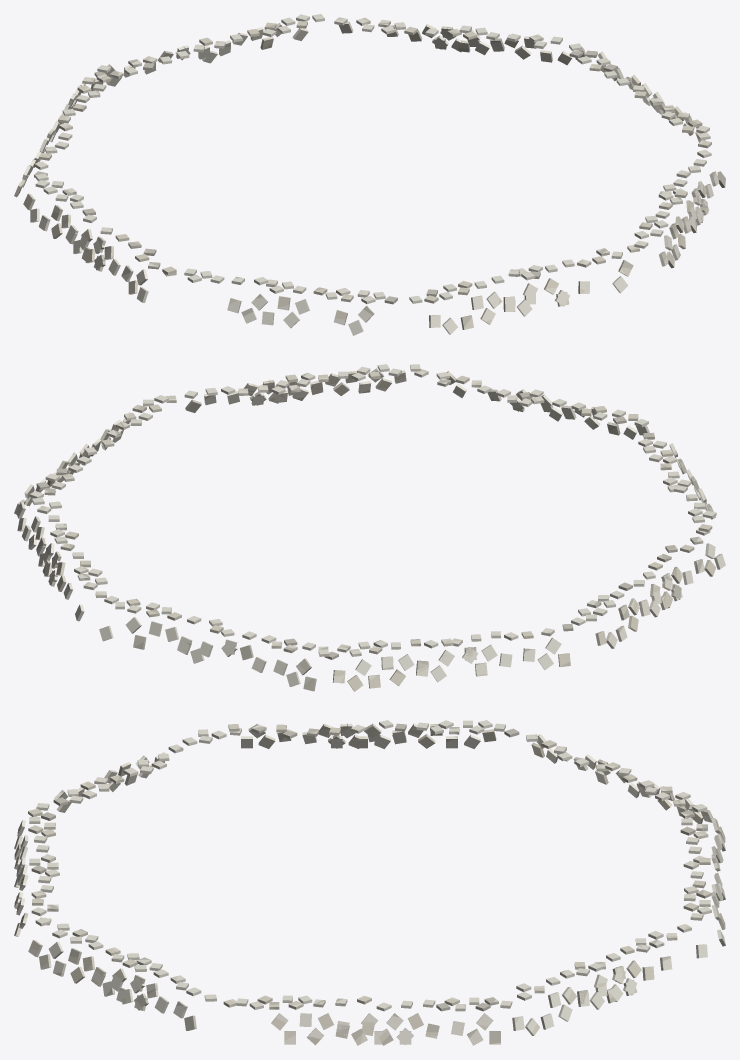
The model's file is SM_Cocktail_Margarita_SaltRim.obj.
3 renders of one model, top to bottom at view 1: azimuth 30°, elevation 25°; view 2: azimuth 150°, elevation 25°; view 3: azimuth 270°, elevation 25°, orthographic. The views are drawn at different scales.
Parts seen in each view (by area): view 1: SM_Cocktail_Margarita_SaltRim_0; view 2: SM_Cocktail_Margarita_SaltRim_0; view 3: SM_Cocktail_Margarita_SaltRim_0.
Part boxes in pixels (x1=…): SM_Cocktail_Margarita_SaltRim_0: x1=14, y1=14, x2=725, y2=335; SM_Cocktail_Margarita_SaltRim_0: x1=14, y1=364, x2=725, y2=691; SM_Cocktail_Margarita_SaltRim_0: x1=14, y1=720, x2=725, y2=1045.
Bounding box in the file's own units: 0.1899 × 0.00999 × 0.191.
1 material, 1 textured.
